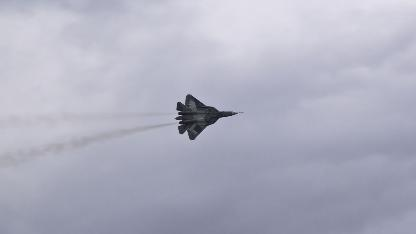SR71: (174, 94, 244, 140)
